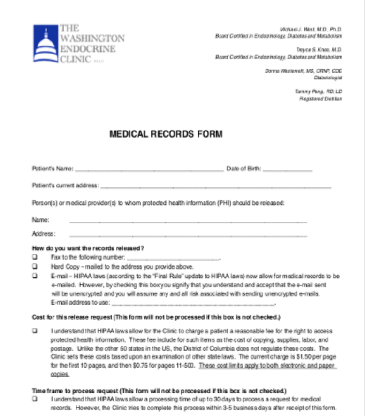checkbox: (28, 272, 41, 281), (29, 262, 41, 271), (29, 394, 39, 404), (30, 325, 39, 335), (29, 253, 40, 261)
textline: (65, 214, 312, 230), (65, 229, 314, 243), (99, 182, 332, 192), (73, 162, 225, 175), (110, 301, 277, 309), (126, 255, 223, 262), (262, 168, 318, 176)
